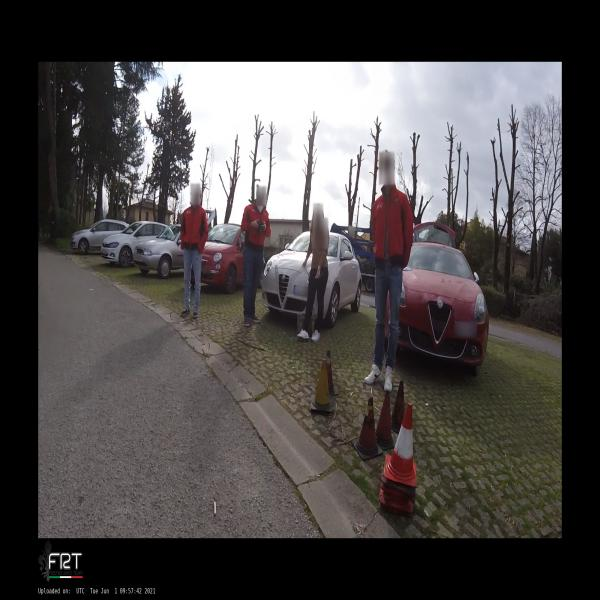orange_cone: (384, 403, 417, 487)
unknown_cone: (352, 396, 384, 459), (310, 360, 334, 412), (376, 390, 396, 450), (391, 381, 405, 433), (326, 350, 339, 395)
